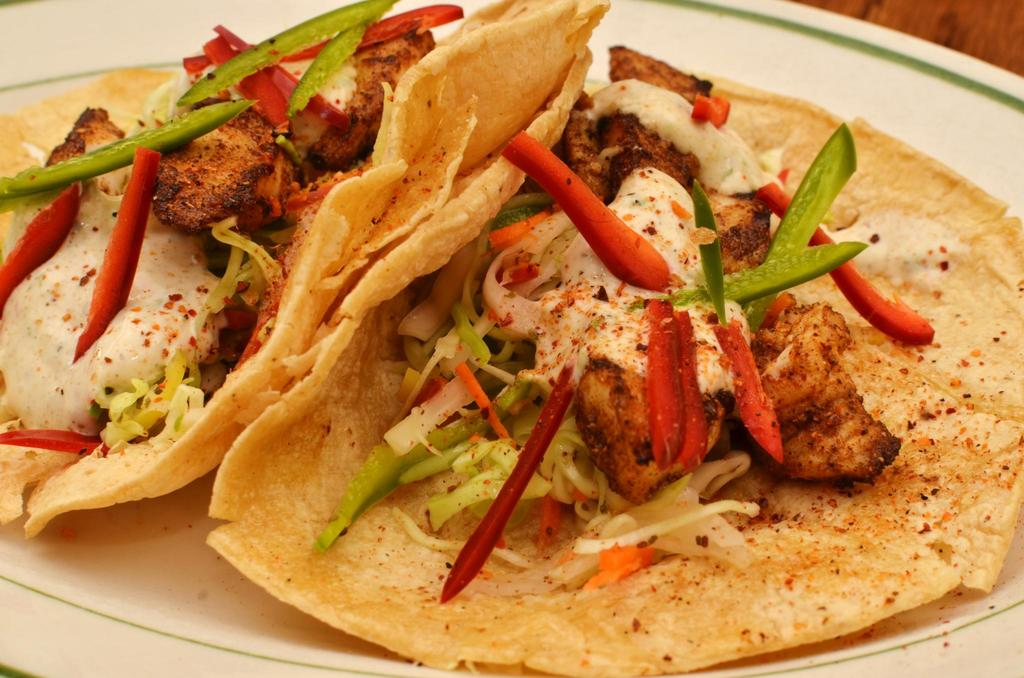taco: (205, 41, 1023, 677), (0, 0, 603, 540)
